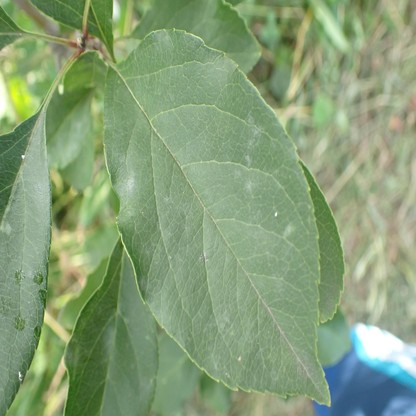powdery_mildew: (0, 110, 53, 416), (49, 103, 89, 166), (115, 166, 137, 216), (244, 116, 261, 161), (290, 350, 315, 380), (67, 344, 80, 378), (102, 326, 114, 356), (154, 30, 171, 46), (284, 222, 295, 237), (221, 315, 231, 331), (246, 177, 251, 189)
